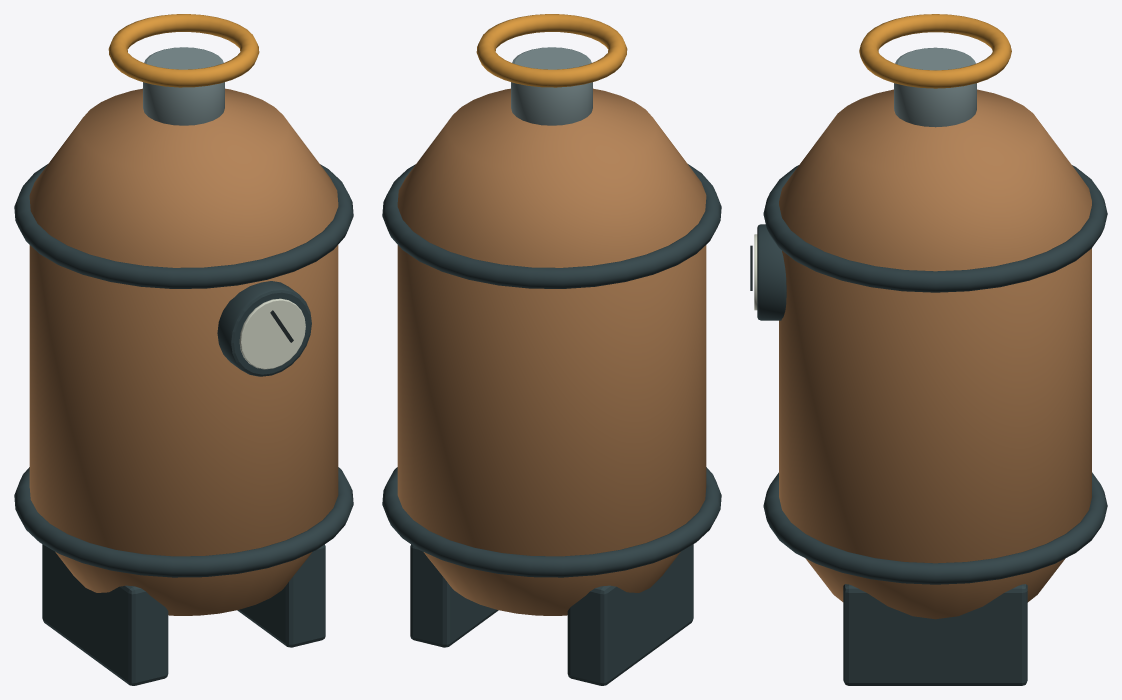
File: SM_PressureVessel.fbx
3 renders of one model, left to right at view 1: azimuth 30°, elevation 25°; view 2: azimuth 150°, elevation 25°; view 3: azimuth 270°, elevation 25°, orthographic.
Parts seen in each view (by area): view 1: SM_PressureVessel; view 2: SM_PressureVessel; view 3: SM_PressureVessel.
Boxes of the visible parts, bbox=[...] form: SM_PressureVessel: bbox=[14, 14, 353, 685]; SM_PressureVessel: bbox=[382, 14, 721, 685]; SM_PressureVessel: bbox=[750, 14, 1107, 685].
Size of what is drawn, in the model's own units: 0.748 by 0.7765 by 1.43.
